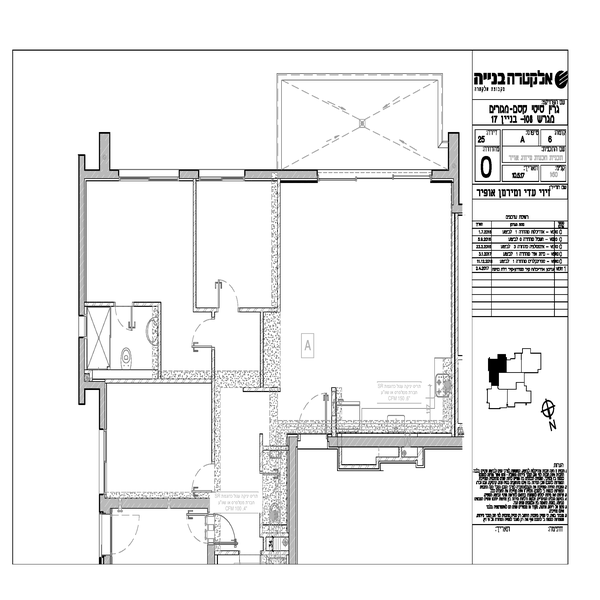door: (186, 511, 242, 548), (99, 509, 136, 551), (297, 392, 331, 430), (187, 318, 217, 353), (191, 462, 222, 494), (211, 279, 239, 312), (108, 303, 136, 334)
room: (275, 165, 465, 448), (64, 165, 203, 316), (209, 382, 303, 566), (95, 372, 215, 509), (75, 297, 166, 384)
wall: (322, 434, 465, 451), (285, 435, 303, 566), (77, 149, 89, 315), (94, 493, 210, 509), (192, 184, 203, 311), (247, 168, 315, 184), (97, 126, 116, 178), (447, 124, 462, 186), (257, 308, 268, 390), (93, 378, 109, 431), (207, 345, 214, 459), (76, 337, 87, 404), (176, 167, 199, 186), (136, 298, 165, 312), (245, 305, 277, 314)
window: (319, 168, 429, 182), (120, 167, 177, 185), (95, 433, 111, 487), (203, 166, 247, 183)
